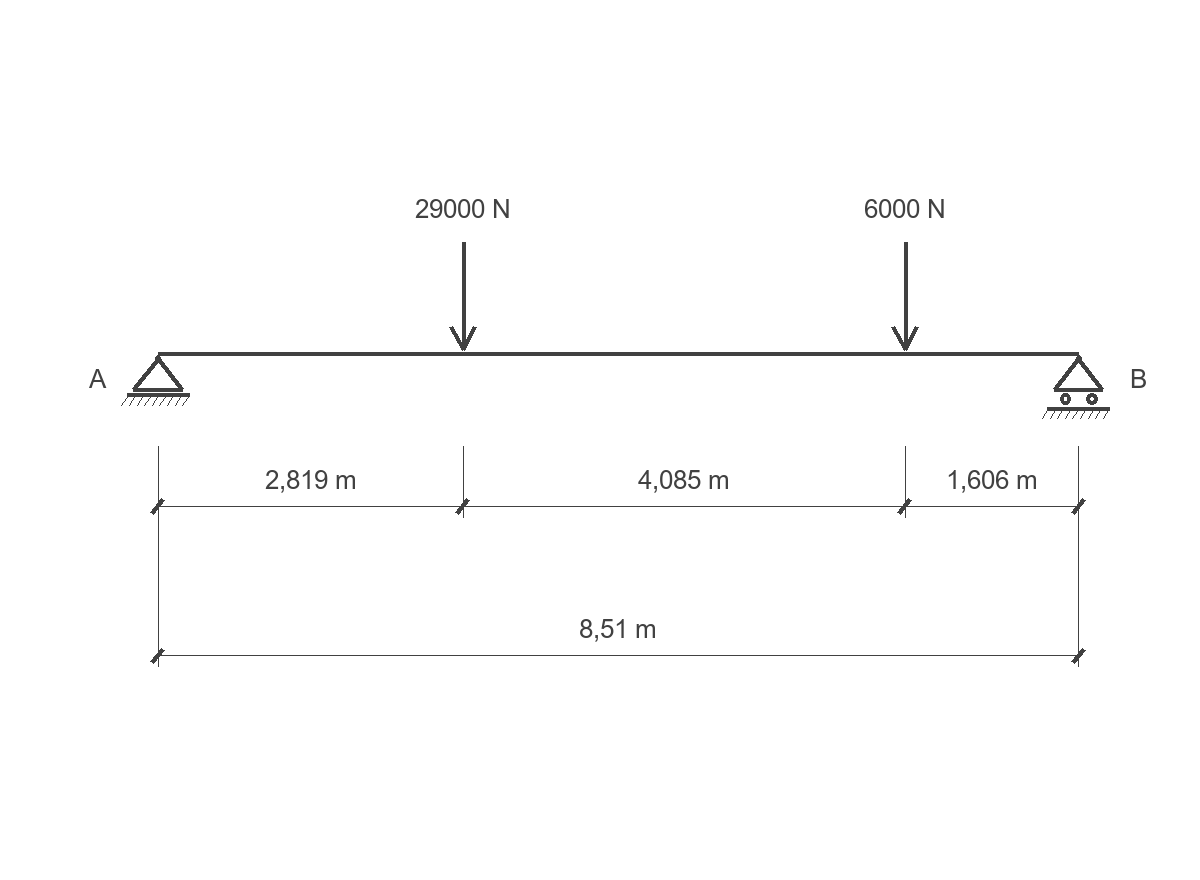pin_support: (121, 355, 190, 406)
point_load: (449, 242, 477, 351), (891, 242, 919, 351)
roller_support: (1042, 355, 1110, 419)
